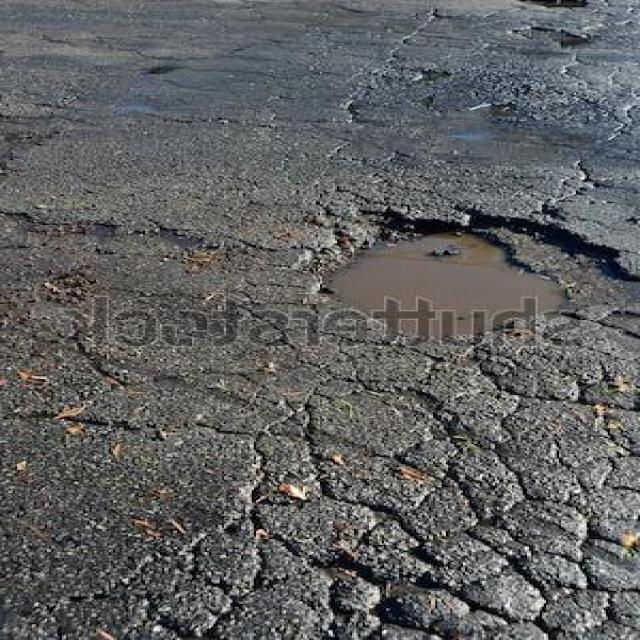pothole: (293, 198, 632, 343), (504, 23, 595, 46), (516, 0, 600, 10)
